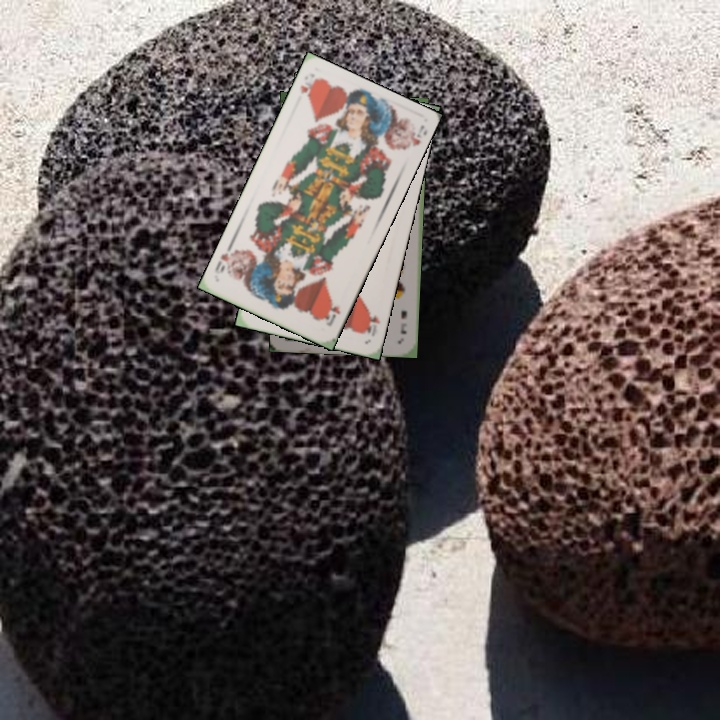E7: (396, 306, 409, 336)
HO: (320, 296, 343, 329), (360, 308, 383, 339), (296, 74, 320, 102)
